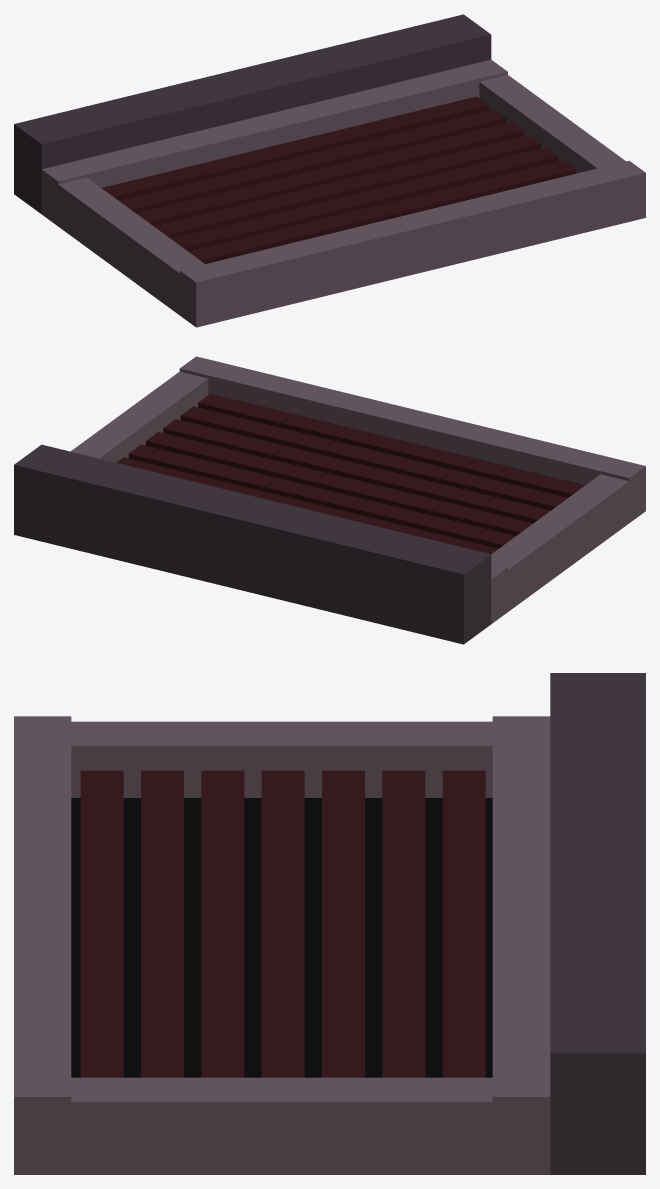
File: SM_StormDrain_Grate.obj
The picture shows the model from 3 angles, top to bottom: view 1: azimuth 30°, elevation 25°; view 2: azimuth 150°, elevation 25°; view 3: azimuth 270°, elevation 25°; orthographic projection. The views are drawn at different scales.
Parts seen in each view (by area): view 1: frame_s, kerb_inlet, frame_n, frame_w, slat_4, slat_1, slat_0, slat_2, slat_3, slat_5, frame_e; view 2: kerb_inlet, frame_s, frame_w, slat_2, slat_4, slat_5, slat_6, slat_3, frame_e, slat_1, frame_n; view 3: kerb_inlet, frame_e, void_shadow, frame_n, frame_s, frame_w, slat_0, slat_1, slat_3, slat_4, slat_6, slat_2 (+1 smaller).
Boxes of the visible parts, x1,y1,x2,y2 form: frame_s: [179, 160, 645, 327]; kerb_inlet: [14, 14, 491, 213]; frame_n: [41, 59, 507, 225]; frame_w: [41, 173, 224, 327]; slat_4: [171, 147, 558, 251]; slat_1: [119, 109, 506, 213]; slat_0: [101, 96, 488, 200]; slat_2: [136, 122, 523, 225]; slat_3: [154, 134, 540, 238]; slat_5: [188, 160, 575, 263]; frame_e: [479, 75, 645, 223]; kerb_inlet: [14, 444, 491, 644]; frame_s: [179, 356, 645, 513]; frame_w: [491, 470, 645, 623]; slat_2: [128, 444, 515, 548]; slat_4: [163, 419, 550, 523]; slat_5: [180, 406, 567, 510]; slat_6: [198, 393, 585, 497]; slat_3: [146, 432, 532, 535]; frame_e: [70, 371, 208, 462]; slat_1: [116, 457, 498, 554]; frame_n: [491, 563, 507, 623]; kerb_inlet: [550, 673, 645, 1174]; frame_e: [14, 1077, 550, 1174]; void_shadow: [71, 798, 492, 1077]; frame_n: [492, 716, 550, 1174]; frame_s: [14, 716, 71, 1174]; frame_w: [71, 721, 492, 797]; slat_0: [442, 770, 485, 1077]; slat_1: [382, 770, 425, 1077]; slat_3: [261, 770, 304, 1077]; slat_4: [201, 770, 244, 1077]; slat_6: [80, 770, 123, 1077]; slat_2: [322, 770, 364, 1077].
Bounding box in the file's own units: 0.94 × 0.14 × 0.66.
